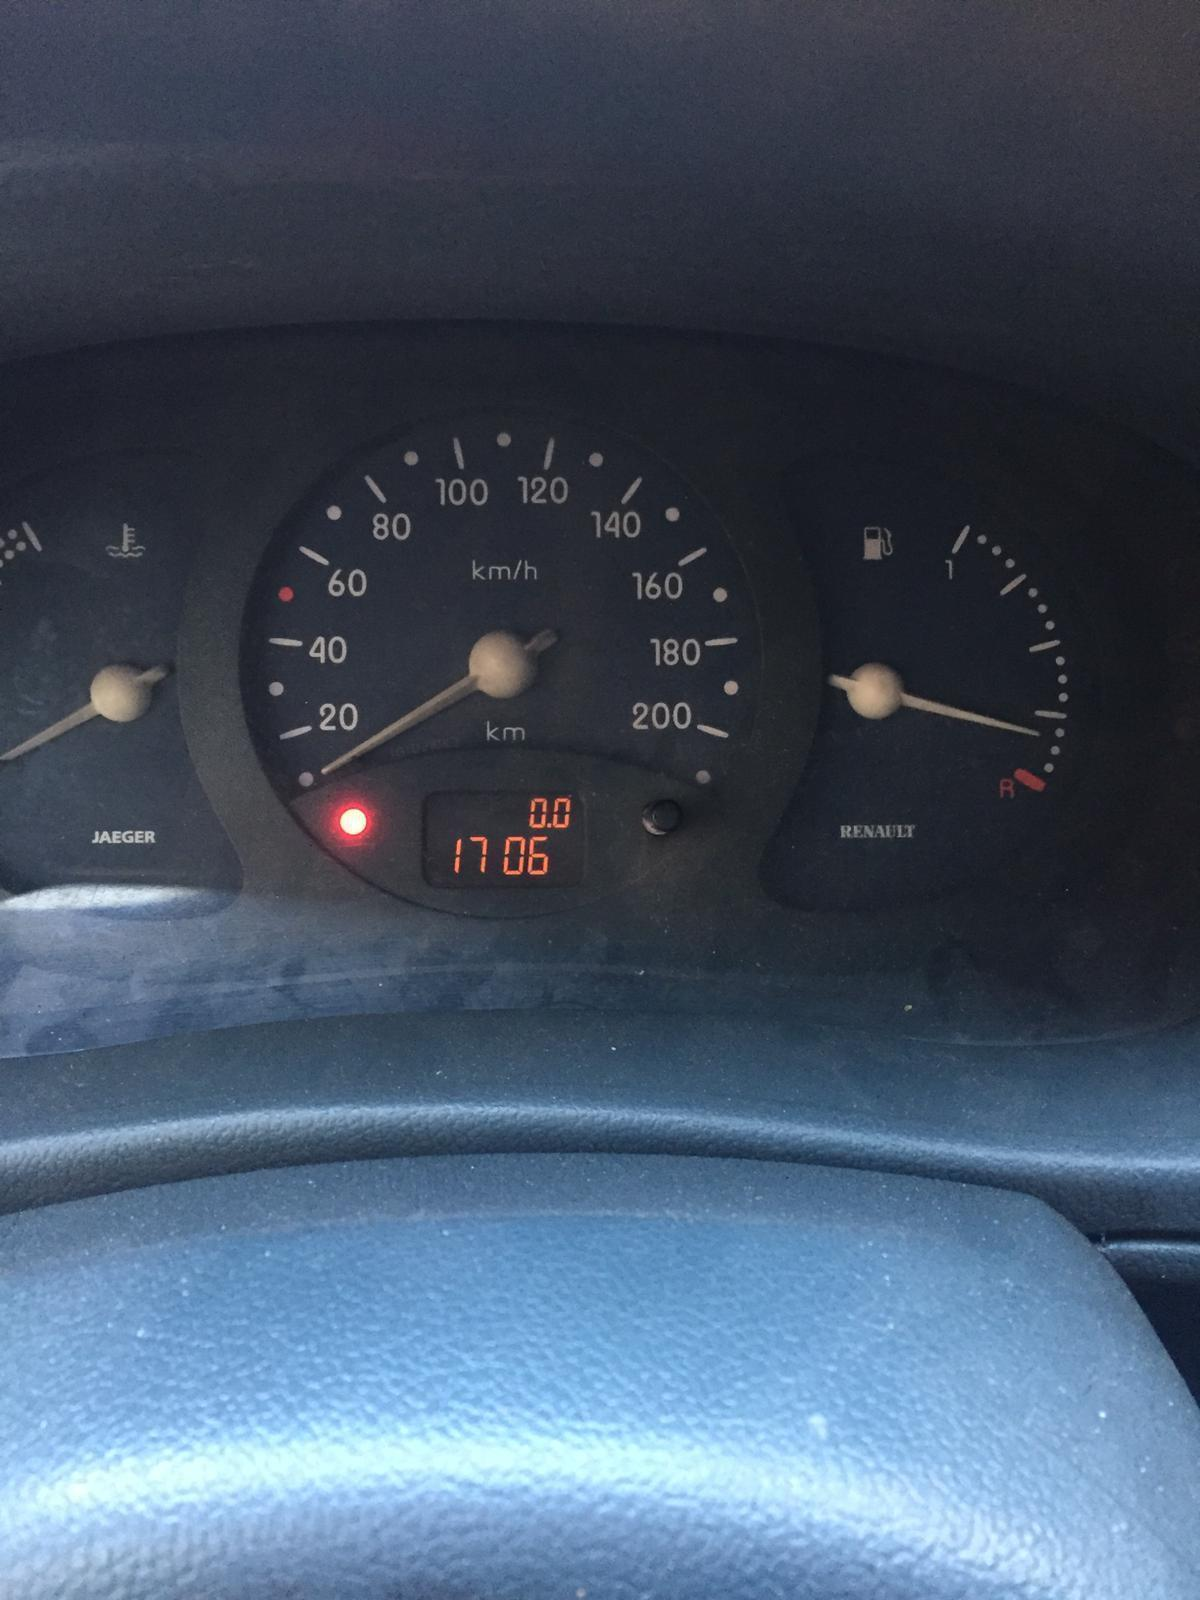,: (546, 821, 552, 828)
0: (502, 835, 526, 876), (528, 797, 547, 828), (552, 797, 571, 828)
1: (453, 837, 463, 874)
6: (526, 835, 550, 876)
7: (466, 835, 488, 874)
odometer: (418, 786, 590, 894)
